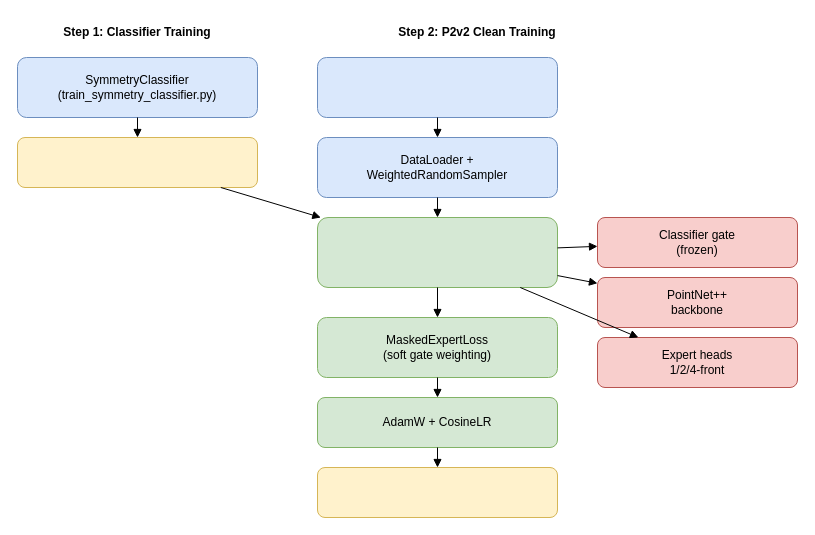
Image size: 815x535. Some labels were removed from this diagram. The shapes that lost their labels are listed below. From the top down, each one's centre as x and y in pixels, then its label:
At (x=437, y=87): "CleanMoEDataset (outlier + category filter)".
At (x=137, y=162): "Classifier checkpoint (best.pth)".
At (x=437, y=252): "ProbabilisticOrientationNet".
At (x=437, y=492): "Checkpoints / WandB".
